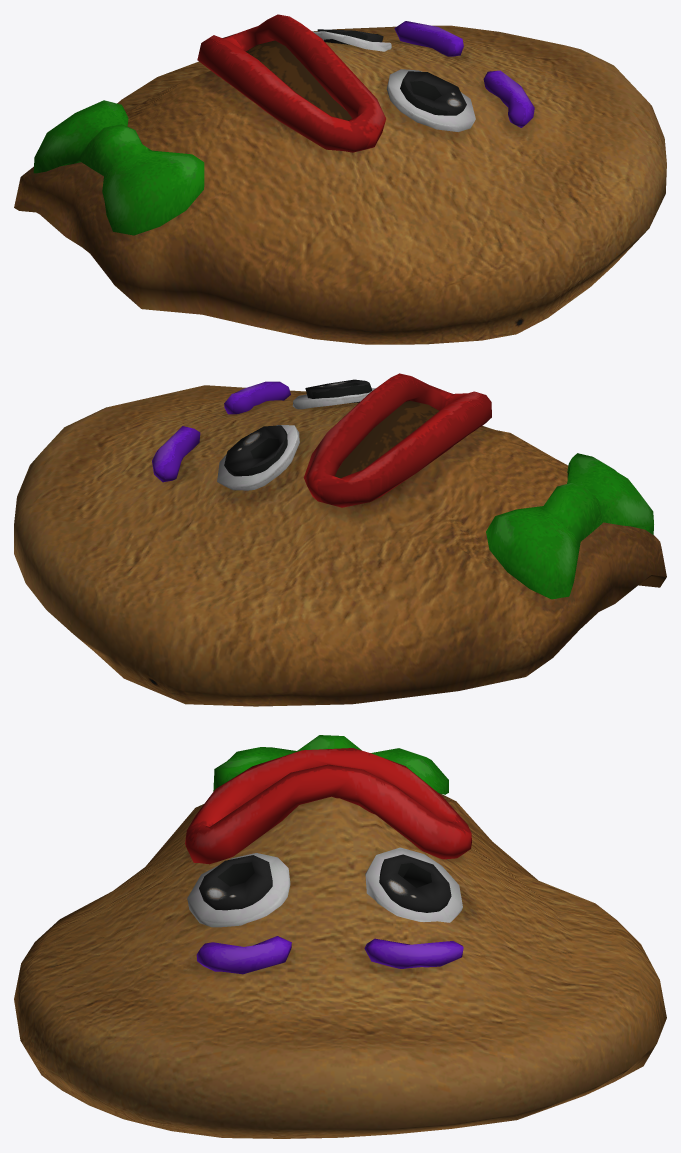
The model's file is GingerbreadMask_Ground.fbx.
3 views of the same model, one above another, from view 1: azimuth 30°, elevation 25°; view 2: azimuth 150°, elevation 25°; view 3: azimuth 270°, elevation 25° (orthographic). The views are drawn at different scales.
Visible parts, largest first — view 1: 24_Mask_0.5_16_16; view 2: 24_Mask_0.5_16_16; view 3: 24_Mask_0.5_16_16.
Boxes of the visible parts, x1=… form: 24_Mask_0.5_16_16: x1=14, y1=14, x2=666, y2=344; 24_Mask_0.5_16_16: x1=14, y1=373, x2=666, y2=706; 24_Mask_0.5_16_16: x1=14, y1=735, x2=666, y2=1138.
Size of the model in its own units: 0.1601 by 0.063 by 0.1474.
